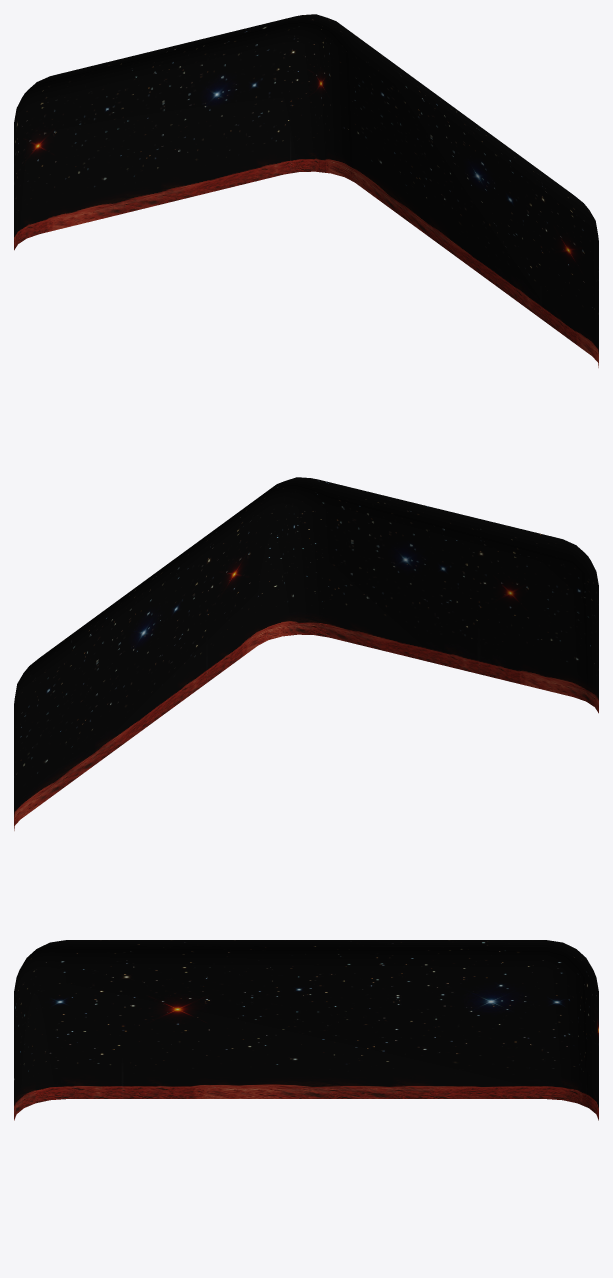
File: Domo.glb
3 renders of one model, top to bottom at view 1: azimuth 30°, elevation 25°; view 2: azimuth 150°, elevation 25°; view 3: azimuth 270°, elevation 25°, orthographic.
Visible parts, largest first — view 1: Domo; view 2: Domo; view 3: Domo.
Boxes of the visible parts, bbox=[...] form: Domo: bbox=[14, 14, 598, 367]; Domo: bbox=[14, 477, 598, 830]; Domo: bbox=[14, 940, 598, 1120].
Bounding box in the file's own units: 32 × 16 × 48.
Materials: 1 (1 with a texture image).
